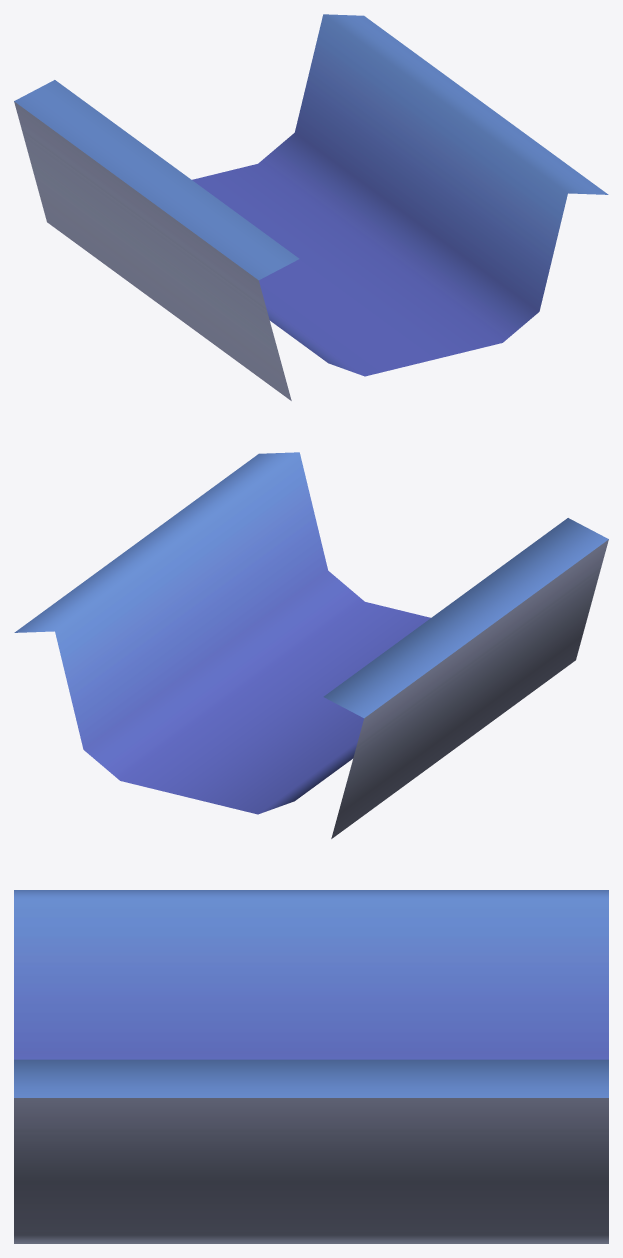
File: kenney-coaster-coaster-flume-track.glb
The picture shows the model from 3 angles, top to bottom: view 1: azimuth 30°, elevation 25°; view 2: azimuth 150°, elevation 25°; view 3: azimuth 270°, elevation 25°; orthographic projection. The views are drawn at different scales.
Parts seen in each view (by area): view 1: coaster-flume-track; view 2: coaster-flume-track; view 3: coaster-flume-track.
Boxes of the visible parts, <box> form: coaster-flume-track: <box>14,14,608,400</box>; coaster-flume-track: <box>14,452,608,838</box>; coaster-flume-track: <box>14,890,608,1243</box>.
Bounding box in the file's own units: 0.8259 × 0.4009 × 1.
Materials: 1 (1 with a texture image).
